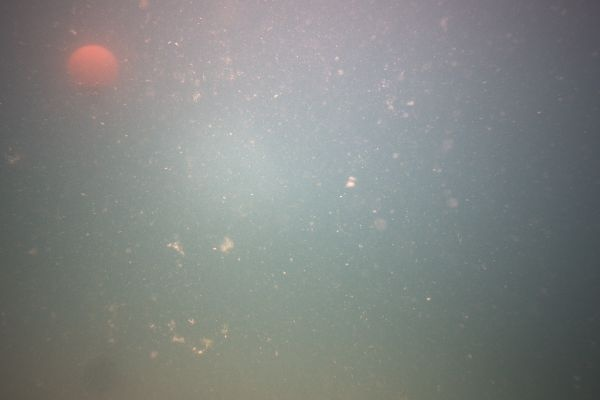buoy: (68, 44, 116, 100)
